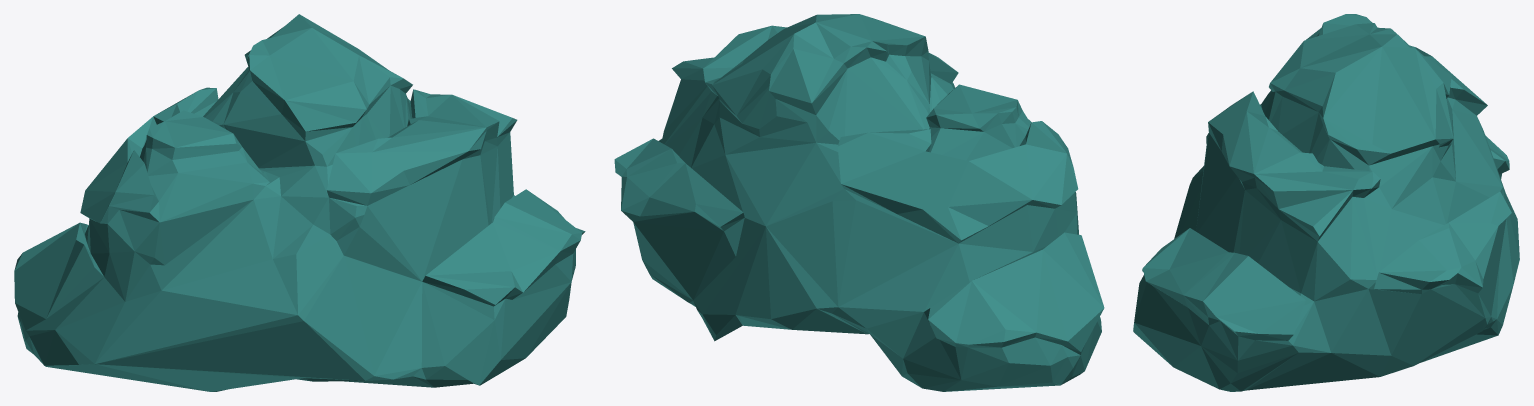
File: SM_Rock_Sea_Medium_Bumpy_Seaweed_B.fbx
3 views of the same model, side by side, from view 1: azimuth 30°, elevation 25°; view 2: azimuth 150°, elevation 25°; view 3: azimuth 270°, elevation 25° (orthographic). The views are drawn at different scales.
Visible parts, largest first — view 1: rock-sea-medium-bumpy-seaweed-b; view 2: rock-sea-medium-bumpy-seaweed-b; view 3: rock-sea-medium-bumpy-seaweed-b.
Boxes of the visible parts, x1,y1,x2,y2 form: rock-sea-medium-bumpy-seaweed-b: (14,14,585,391); rock-sea-medium-bumpy-seaweed-b: (614,14,1104,391); rock-sea-medium-bumpy-seaweed-b: (1133,14,1519,391).
Bounding box in the file's own units: 4.75 × 2.66 × 3.45.
